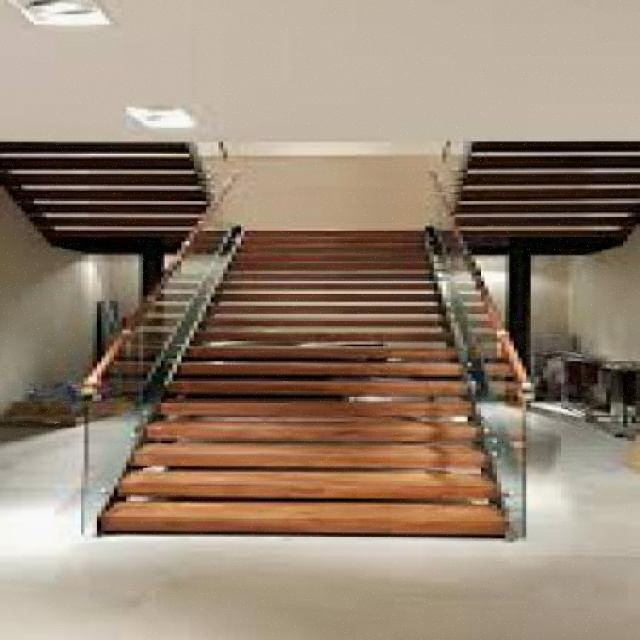stair: (32, 166, 558, 543)
